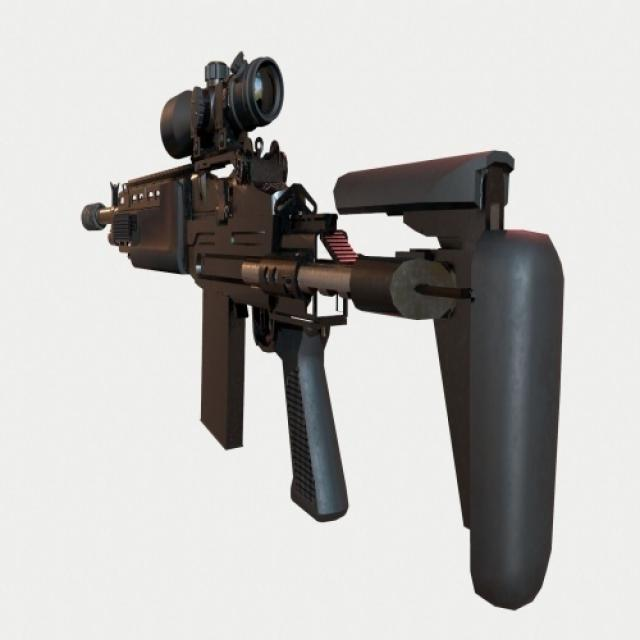Gun: (81, 41, 604, 608)
